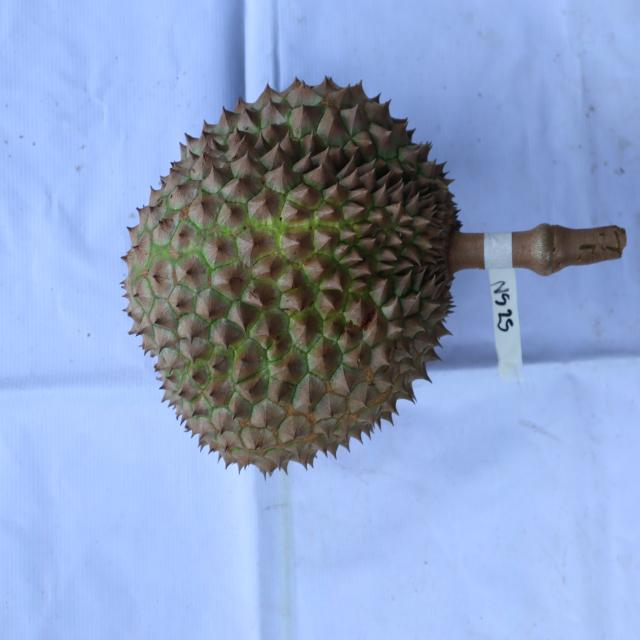mature: (113, 75, 460, 479)
